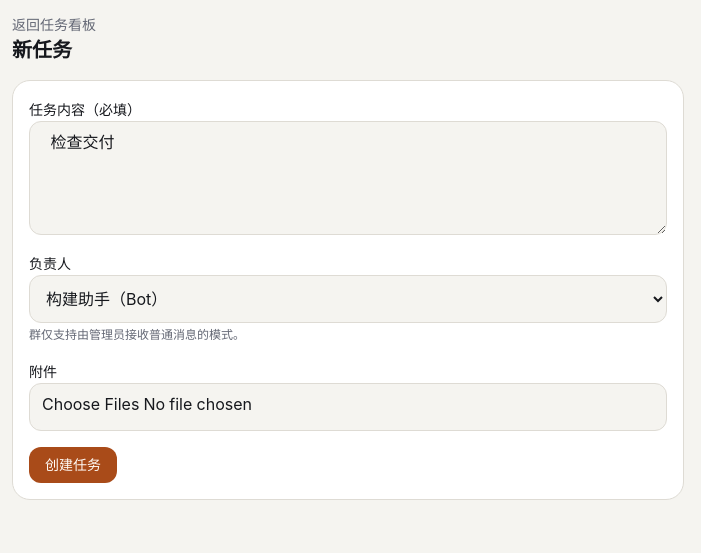
Test: retrying the same submission keeps its key, target and uploaded attachment
Earlier steps of the test are not shown.
Step 1. Click the button "创建任务" → x=73, y=465, box [29,447,117,483]
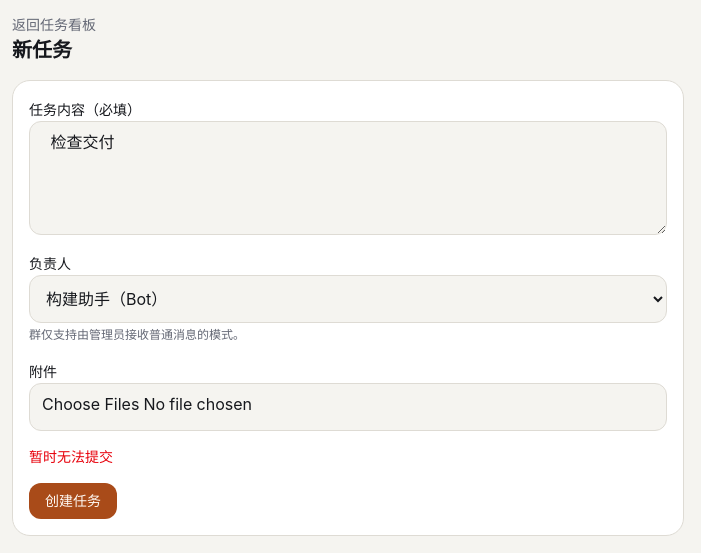
Result: the text "暂时无法提交" is shown at [29,448,113,465]
Step 2. Click the button "创建任务" → x=73, y=501, box [29,483,117,519]
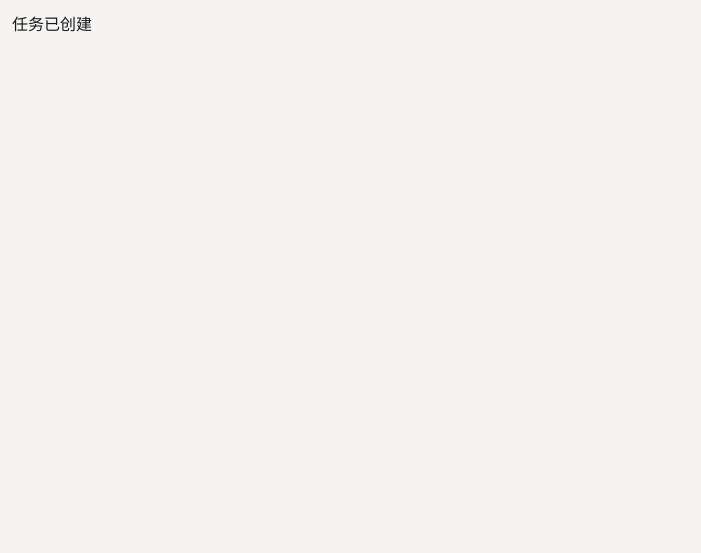
Result: the text "任务已创建" is shown at [12,14,92,34]
